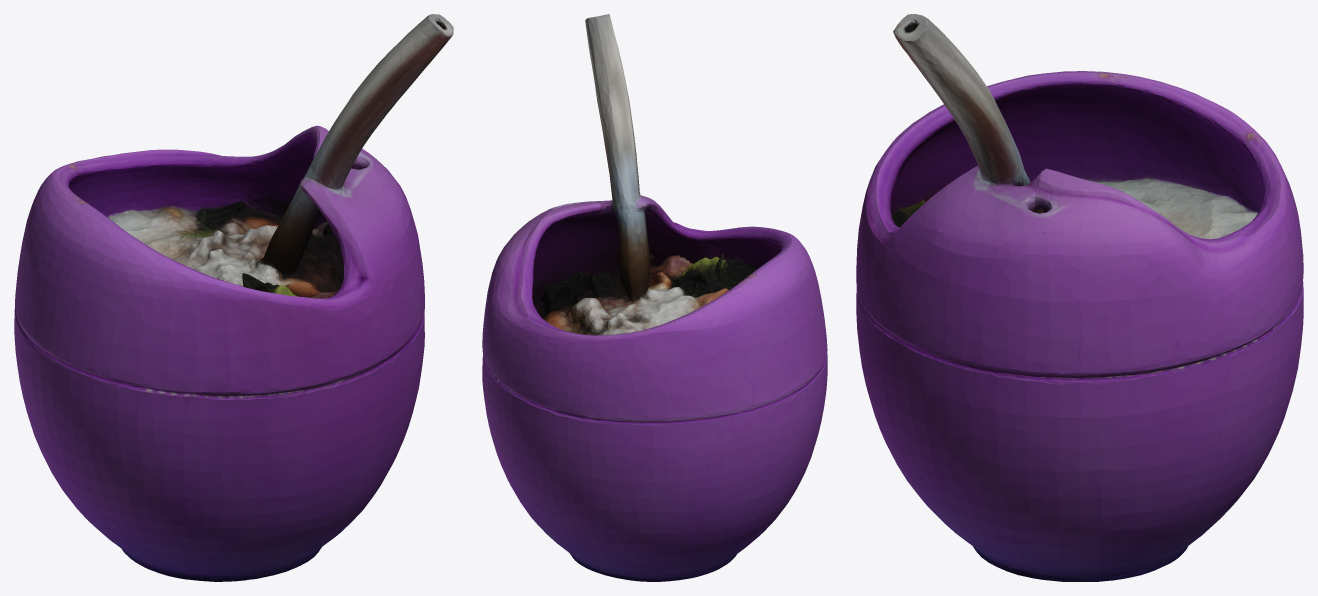
Rendered from matecito-facu.glb.
3 renders of one model, left to right at view 1: azimuth 30°, elevation 25°; view 2: azimuth 150°, elevation 25°; view 3: azimuth 270°, elevation 25°, orthographic. The views are drawn at different scales.
Visible parts, largest first — view 1: world; view 2: world; view 3: world.
Boxes of the visible parts, x1,y1,x2,y2 form: world: (14,14,453,581); world: (482,14,827,581); world: (856,14,1303,581).
Bounding box in the file's own units: 0.6888 × 1 × 0.6855.
1 material, 1 textured.
